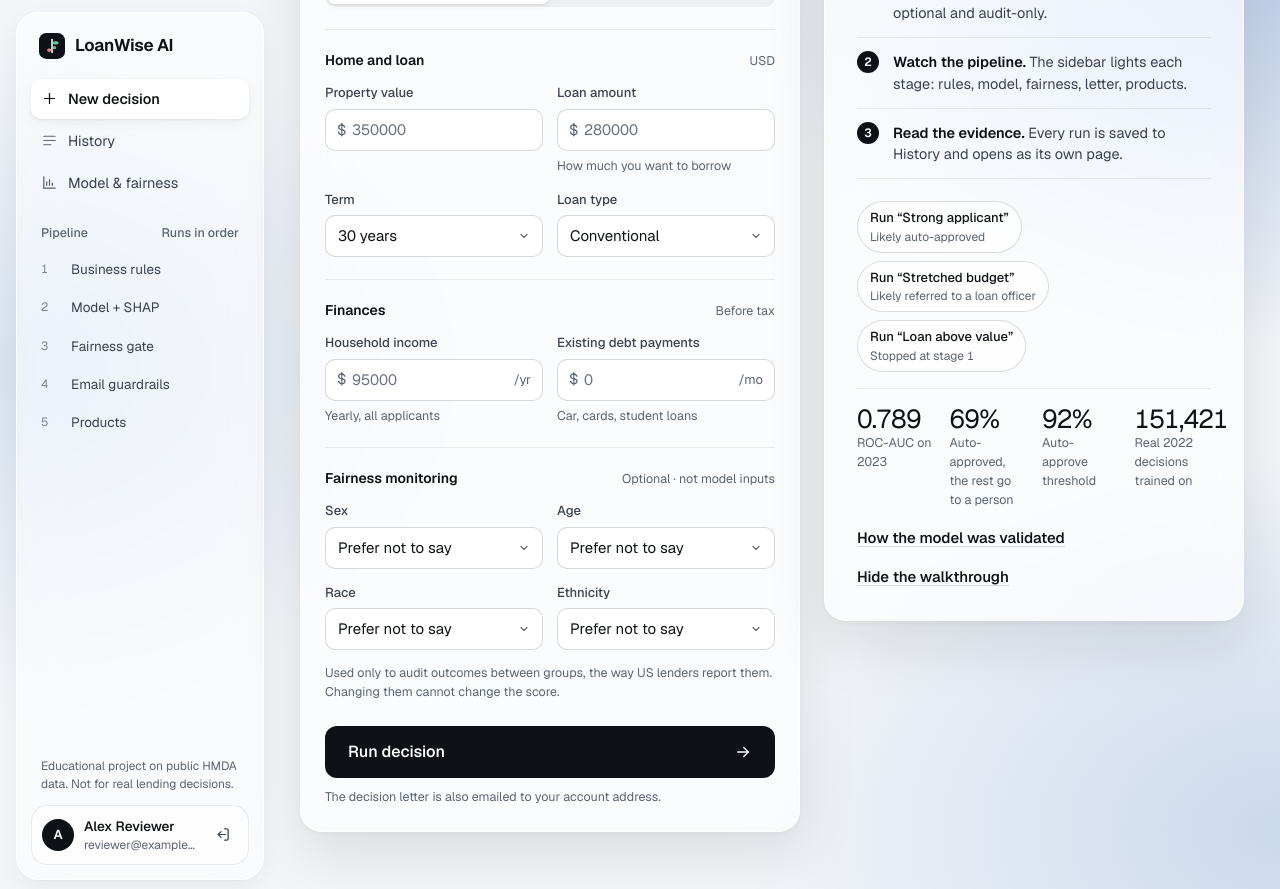
Scenario: New decision › hides the walkthrough once dismissed
(page scrolled)
What coordinates should you click on to do the following:
click the button "Hide the walkthrough"
I would click on:
 (933, 577)
Its box is [857,566,1009,588].
(page scrolled)
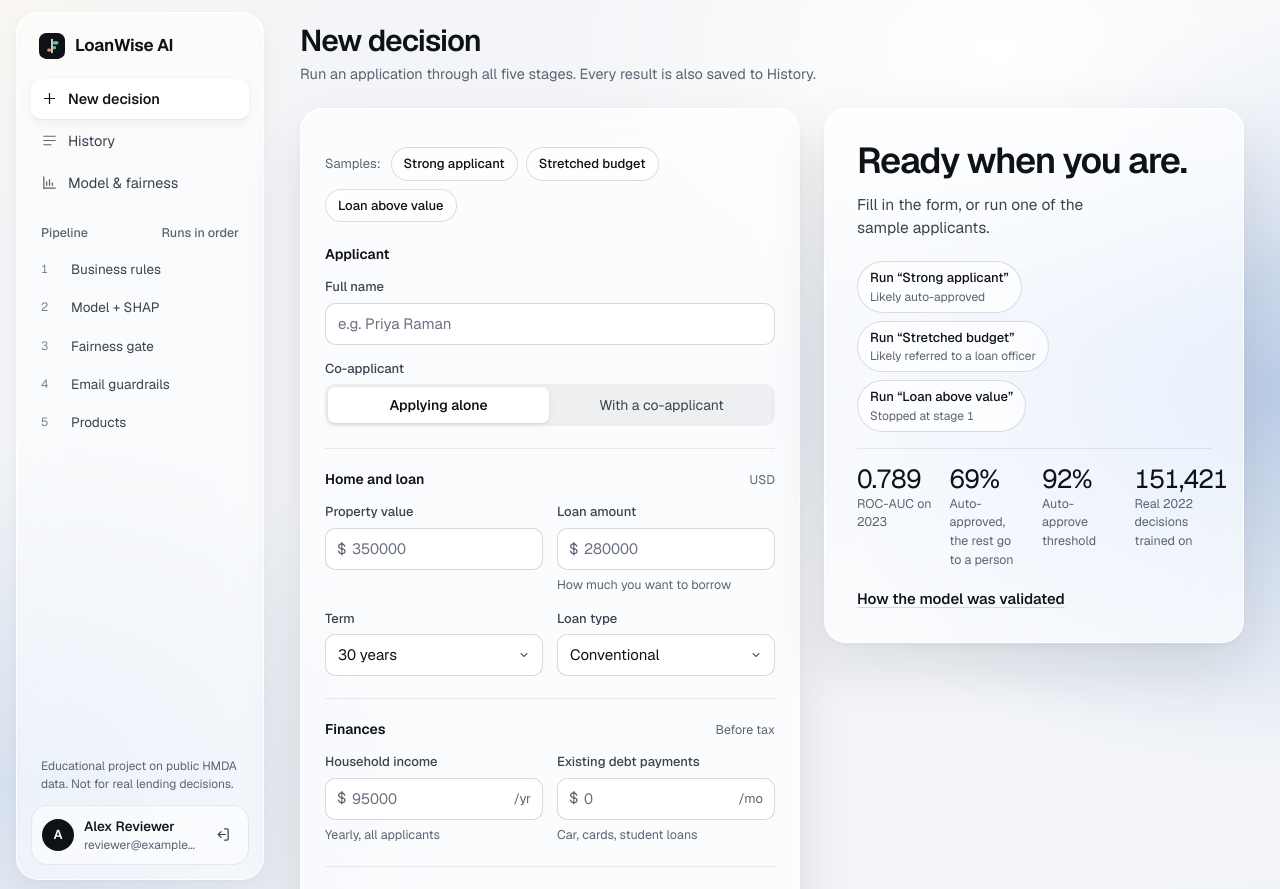
Now the heading "Ready when you are." is shown, box [857,141,1211,181]
